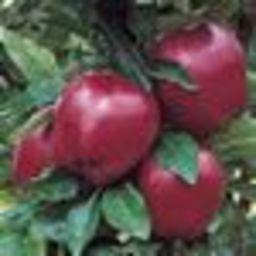apple: (52, 69, 162, 187), (146, 21, 248, 135), (136, 138, 225, 239)
